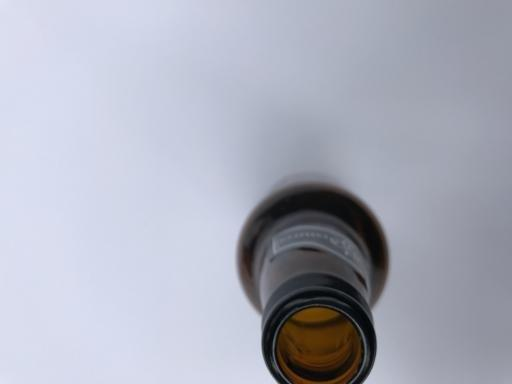botolkaca: (239, 173, 391, 384)
